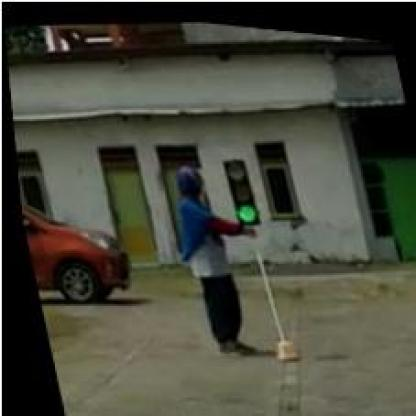green: (219, 150, 257, 220)
